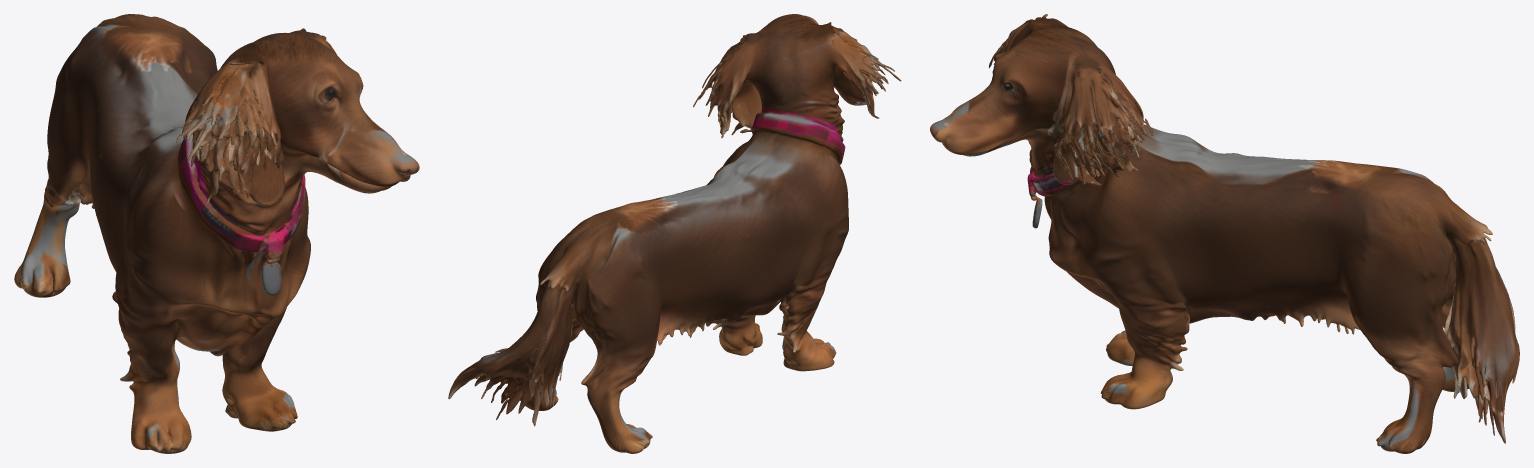
The model's file is pixel.glb.
3 renders of one model, left to right at view 1: azimuth 30°, elevation 25°; view 2: azimuth 150°, elevation 25°; view 3: azimuth 270°, elevation 25°, orthographic. The views are drawn at different scales.
Parts seen in each view (by area): view 1: tripo_node_9b7a7018-8e36-4968-af38-953e7c759479; view 2: tripo_node_9b7a7018-8e36-4968-af38-953e7c759479; view 3: tripo_node_9b7a7018-8e36-4968-af38-953e7c759479.
Part boxes in pixels (x1,y1,x2,y2): tripo_node_9b7a7018-8e36-4968-af38-953e7c759479: (14, 14, 419, 453); tripo_node_9b7a7018-8e36-4968-af38-953e7c759479: (448, 14, 901, 453); tripo_node_9b7a7018-8e36-4968-af38-953e7c759479: (930, 14, 1519, 453).
Bounding box in the file's own units: 0.5583 × 0.6619 × 1.
1 material, 1 textured.
